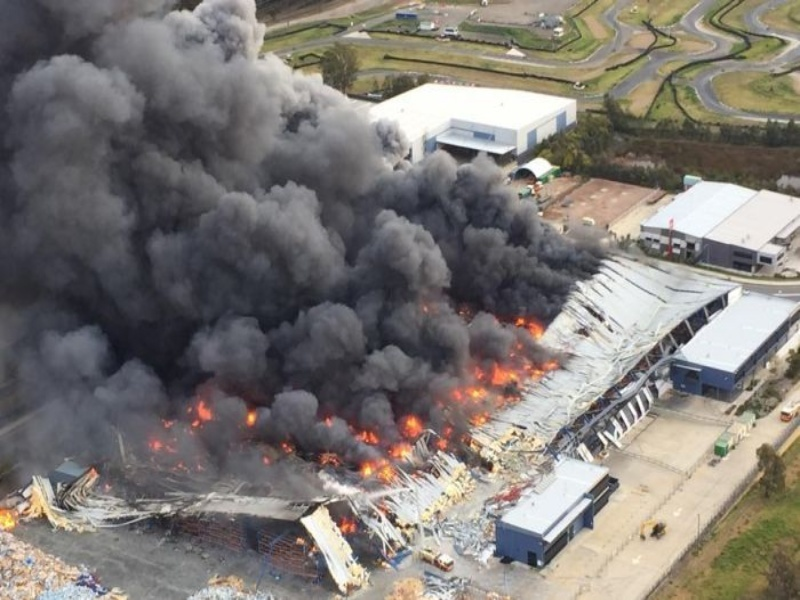smoke: (3, 1, 476, 484)
